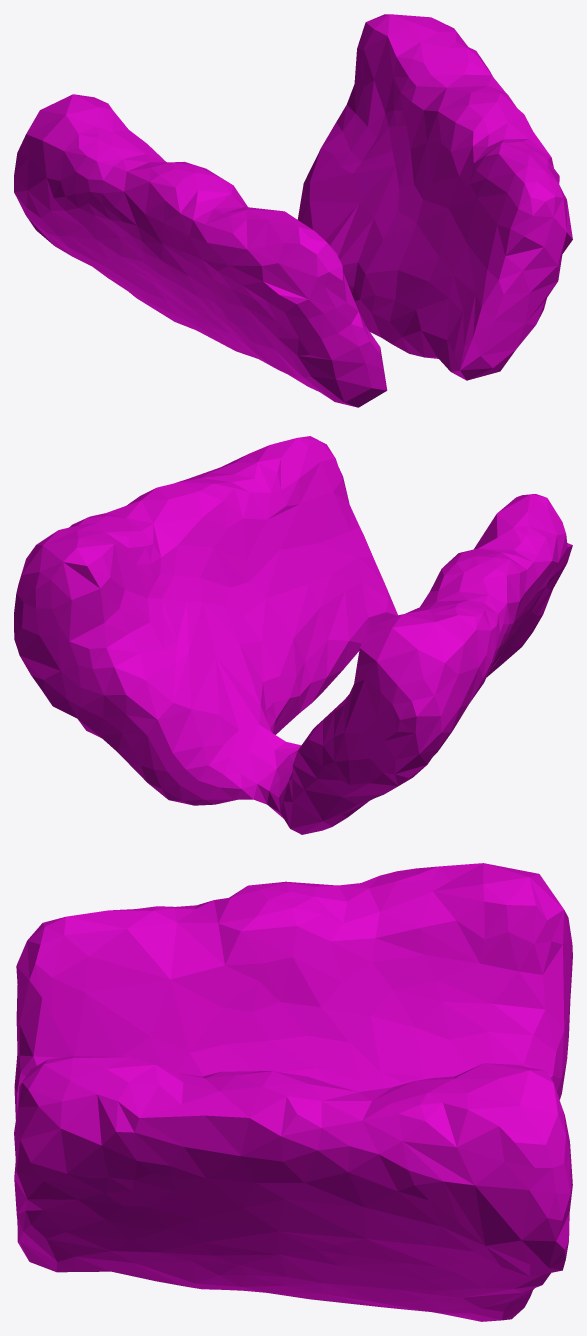
Rendered from 201-14o-area 14o-('1.0000', '0.0000', '0.9216').obj.
3 views of the same model, one above another, from view 1: azimuth 30°, elevation 25°; view 2: azimuth 150°, elevation 25°; view 3: azimuth 270°, elevation 25° (orthographic). The views are drawn at different scales.
Size of the model in its own units: 86.13 by 46.41 by 75.45.
